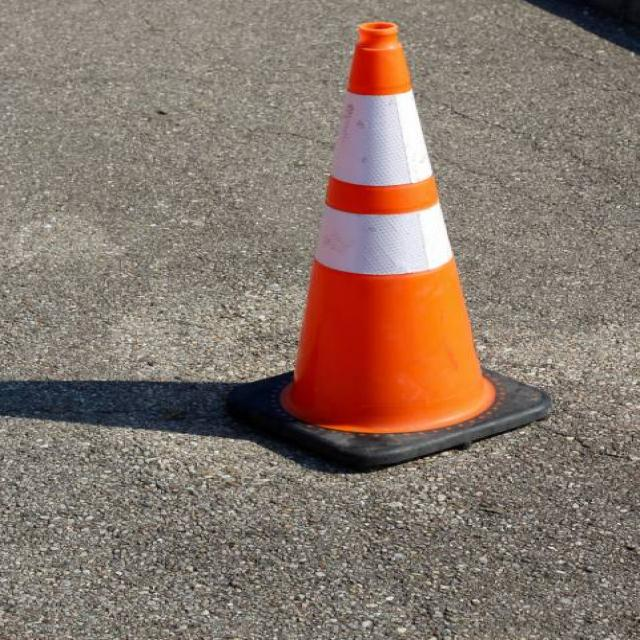Traffic Cone: (168, 0, 588, 492)
